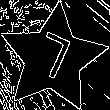L_SW: (28, 29, 77, 88)
